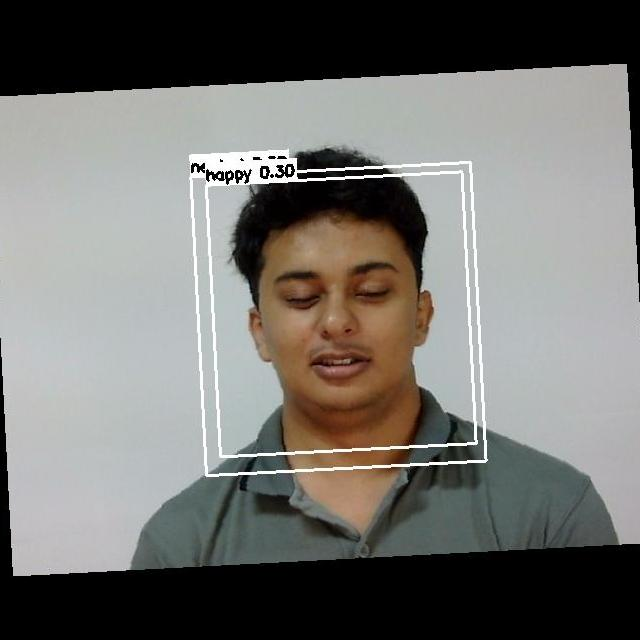Fear: (250, 249, 425, 392)
